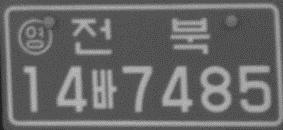1: (16, 64, 48, 113)
4: (54, 65, 86, 112), (161, 66, 192, 113)
5: (237, 64, 272, 113)
7: (121, 64, 152, 113)
8: (199, 64, 232, 113)
바: (90, 68, 117, 110)
영: (16, 18, 53, 56)
전북_D: (70, 17, 211, 56)
